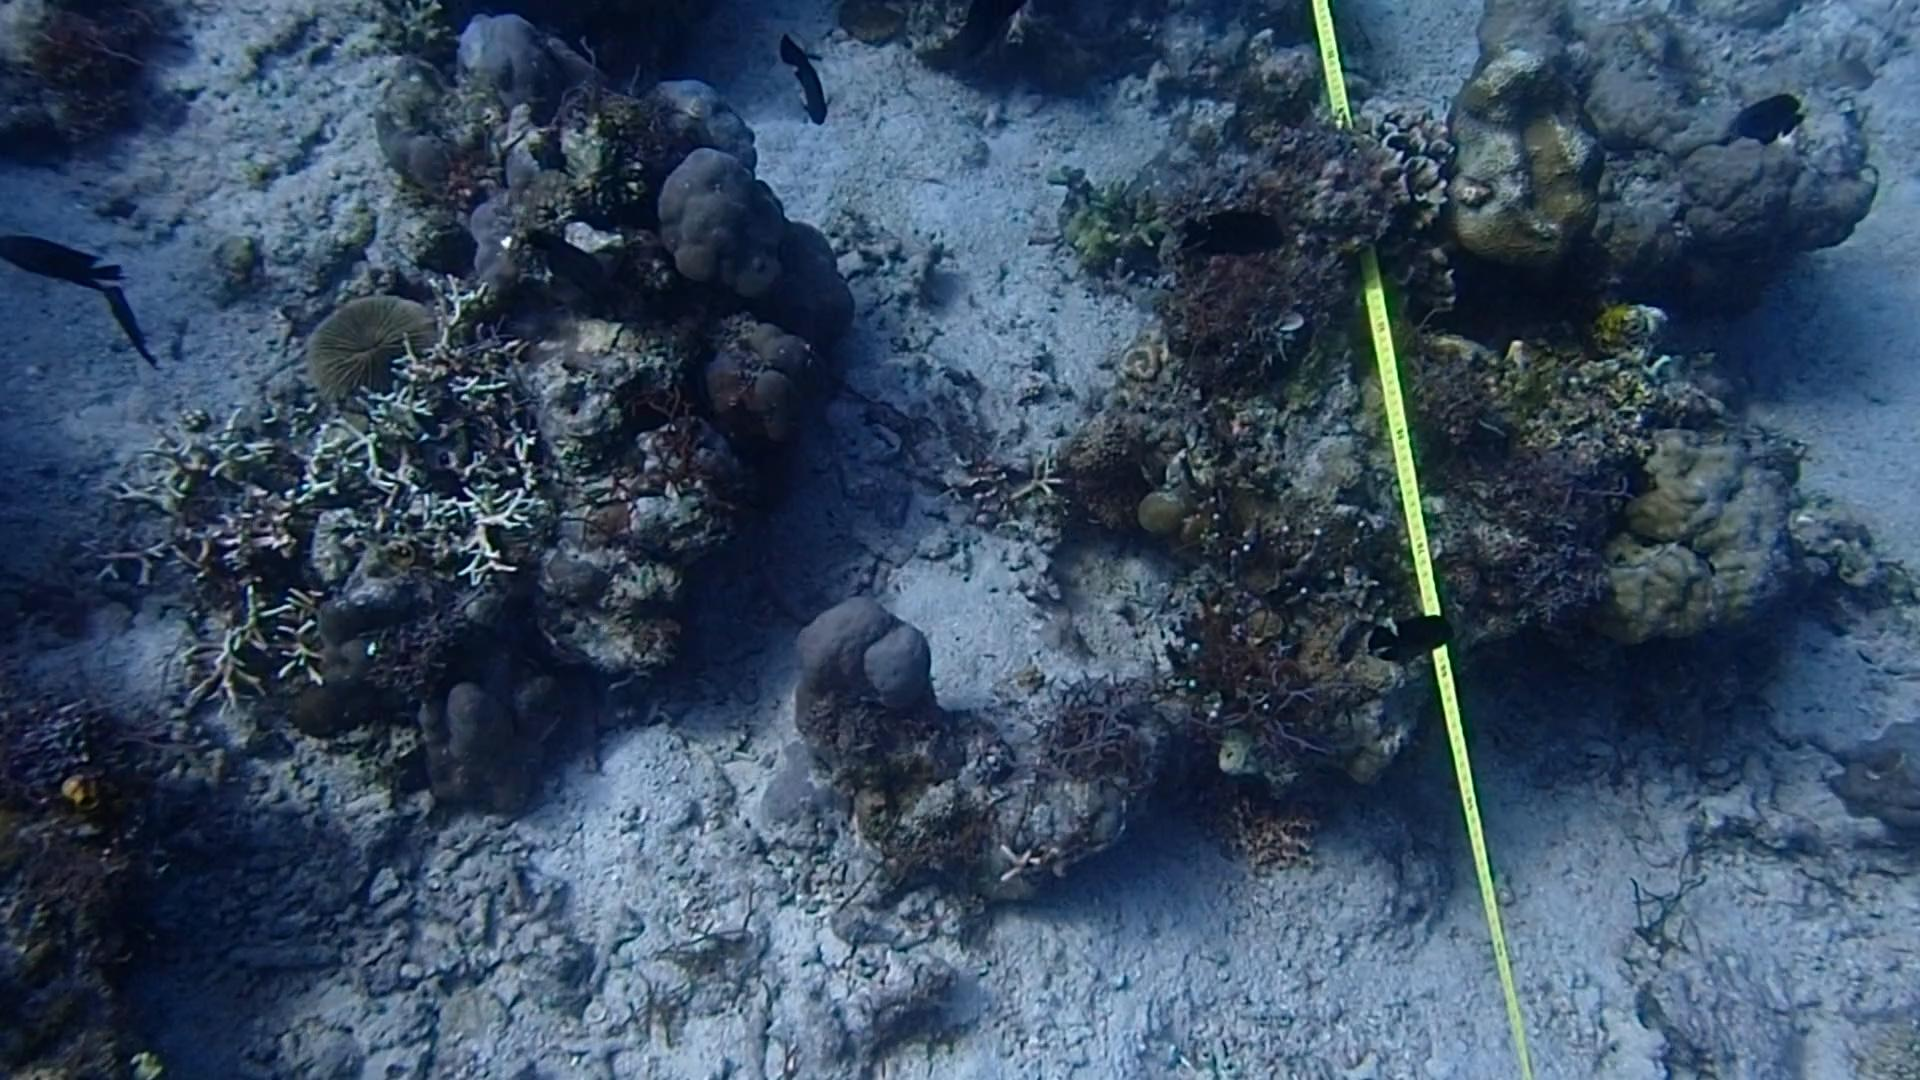Dark Fish: (524, 218, 626, 326), (1171, 200, 1300, 282), (1348, 600, 1470, 684), (1708, 86, 1820, 170), (758, 28, 852, 128), (0, 223, 129, 290), (92, 284, 169, 378), (943, 0, 1042, 58)
